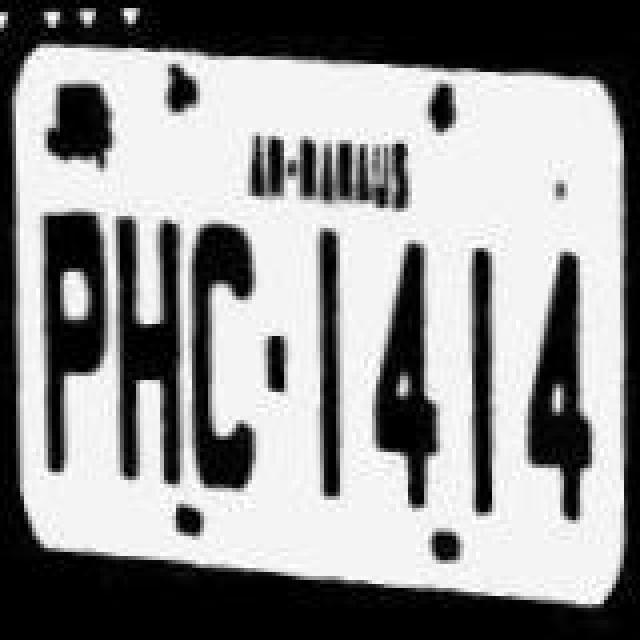1: (458, 236, 502, 520), (314, 222, 358, 498)
4: (514, 238, 606, 530), (366, 226, 450, 518)
C: (184, 206, 272, 506)
H: (108, 192, 192, 492)
P: (26, 186, 114, 486)
